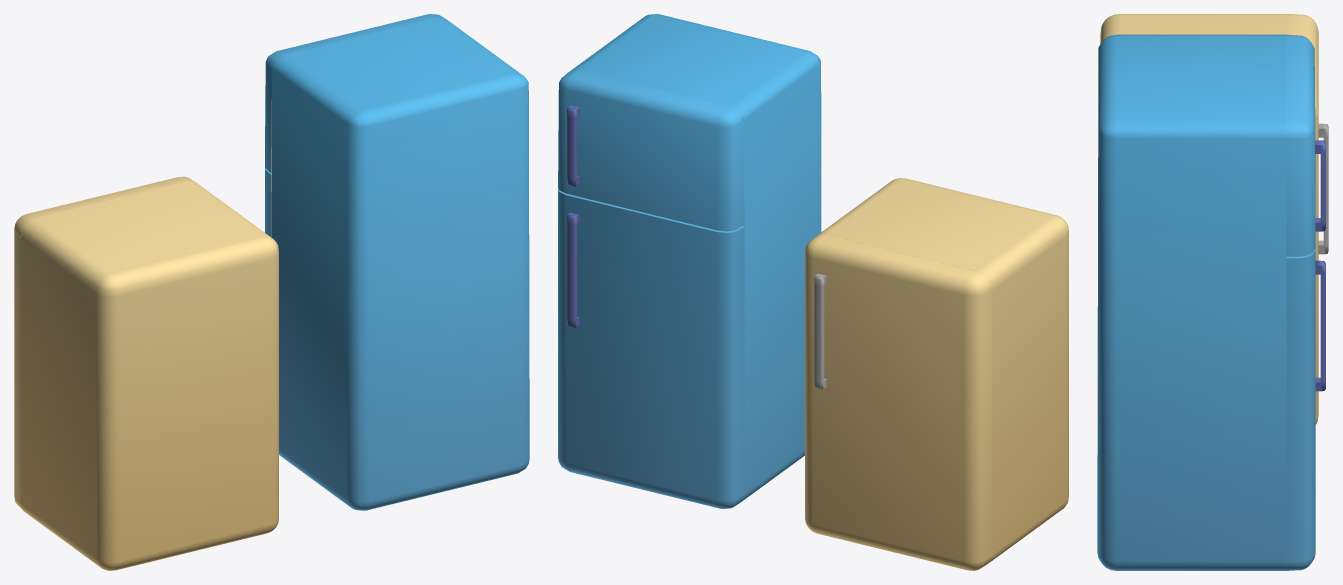
Rendered from refrigerator.fbx.
3 renders of one model, left to right at view 1: azimuth 30°, elevation 25°; view 2: azimuth 150°, elevation 25°; view 3: azimuth 270°, elevation 25°, orthographic. The views are drawn at different scales.
Parts seen in each view (by area): view 1: refrigerator_1, refrigerator_2, door_2, upperDoor; view 2: door_2, lowerDoor_1, refrigerator_1, refrigerator_2, upperDoor; view 3: refrigerator_1, lowerDoor_1, upperDoor, refrigerator_2, door_2.
Boxes of the visible parts, bbox=[...] form: refrigerator_1: bbox=[271, 18, 529, 510]; refrigerator_2: bbox=[20, 181, 278, 570]; door_2: bbox=[14, 176, 194, 509]; upperDoor: bbox=[265, 14, 445, 173]; door_2: bbox=[805, 234, 991, 570]; lowerDoor_1: bbox=[558, 189, 744, 508]; refrigerator_1: bbox=[571, 14, 821, 501]; refrigerator_2: bbox=[818, 178, 1068, 564]; upperDoor: bbox=[558, 70, 744, 231]; refrigerator_1: bbox=[1097, 34, 1286, 570]; lowerDoor_1: bbox=[1286, 249, 1325, 570]; upperDoor: bbox=[1286, 35, 1325, 256]; refrigerator_2: bbox=[1100, 14, 1289, 43]; door_2: bbox=[1289, 14, 1328, 424].
Bounding box in the file's own units: 6.9 × 2.85 × 6.12.
